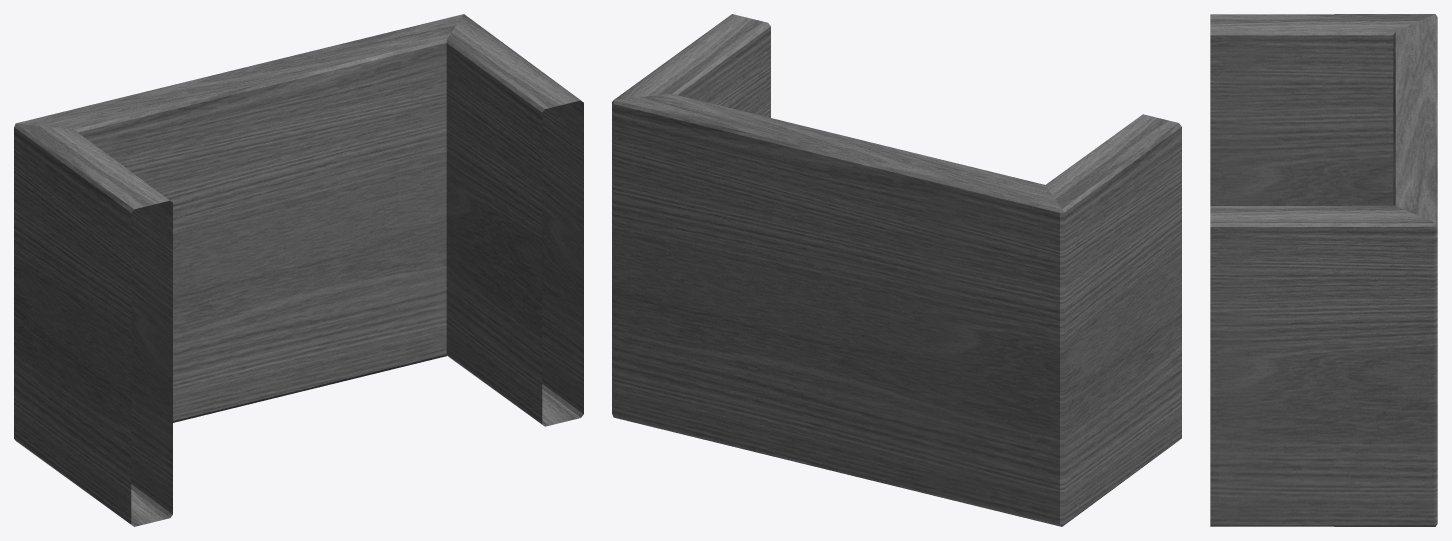
The model's file is tv_table001b.FBX.
3 views of the same model, side by side, from view 1: azimuth 30°, elevation 25°; view 2: azimuth 150°, elevation 25°; view 3: azimuth 270°, elevation 25° (orthographic). The views are drawn at different scales.
Parts seen in each view (by area): view 1: tv_table001b; view 2: tv_table001b; view 3: tv_table001b.
Part boxes in pixels (x1=…): tv_table001b: x1=14, y1=14, x2=583, y2=526; tv_table001b: x1=612, y1=14, x2=1181, y2=526; tv_table001b: x1=1210, y1=14, x2=1437, y2=526.
Bounding box in the file's own units: 119 × 79.78 × 54.15.
1 material, 1 textured.
